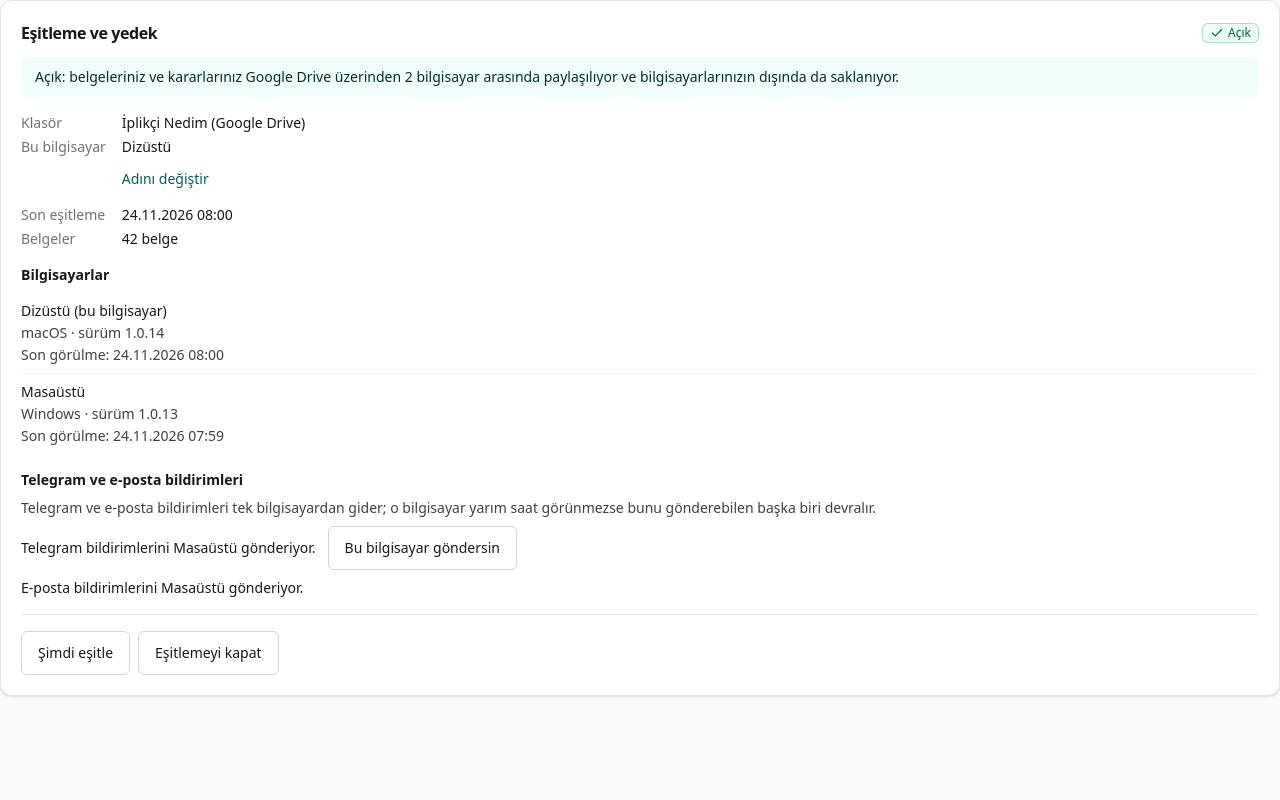
Scenario: SyncCard while the sync is on › shows the folder, the computers and who sends each channel, and moves Telegram's here
This screenshot has width=1280, height=800.
Expected: the text "Açık" is shown, 1202,23 -> 1259,43
Expected: the text "Açık: belgeleriniz ve kararlarınız Google Drive üzerinden 2 bilgisayar arasında paylaşılıyor" is shown, 35,67 -> 899,86
Click the button with aria-label "Bu bilgisayar göndersin: Telegram": (422, 548) 328,526 -> 517,570
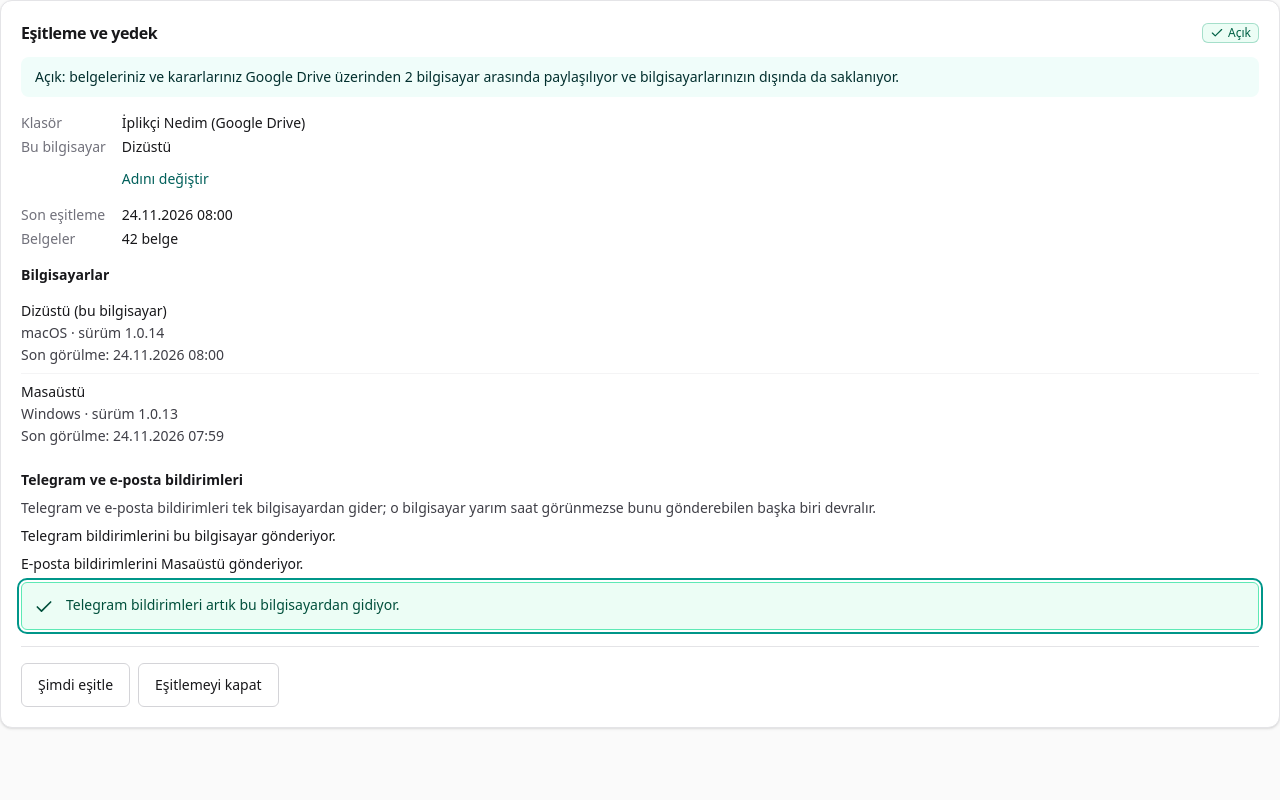
Now the text "Telegram bildirimlerini bu bilgisayar gönderiyor." is shown, box 21,526 -> 336,546
Now the text "Telegram bildirimleri artık bu bilgisayardan gidiyor." is shown, box 66,595 -> 400,615
Now the button "Bu bilgisayar göndersin" is gone
